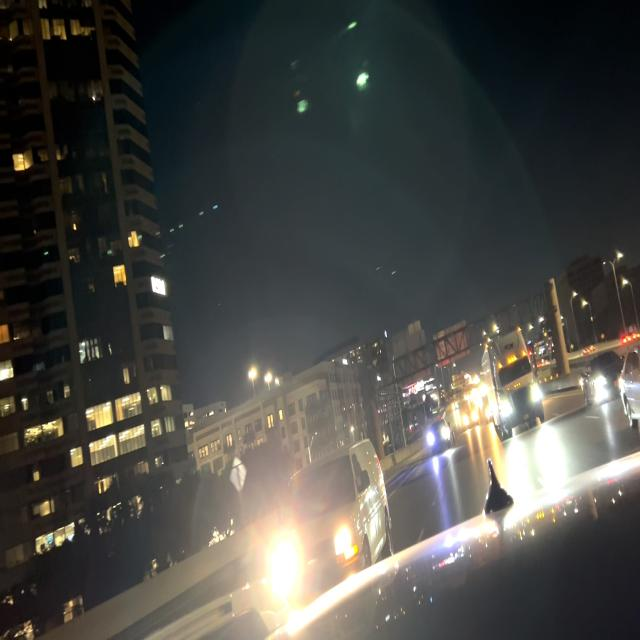back-of-sign: (391, 318, 431, 387), (433, 318, 474, 371), (230, 454, 247, 494)
